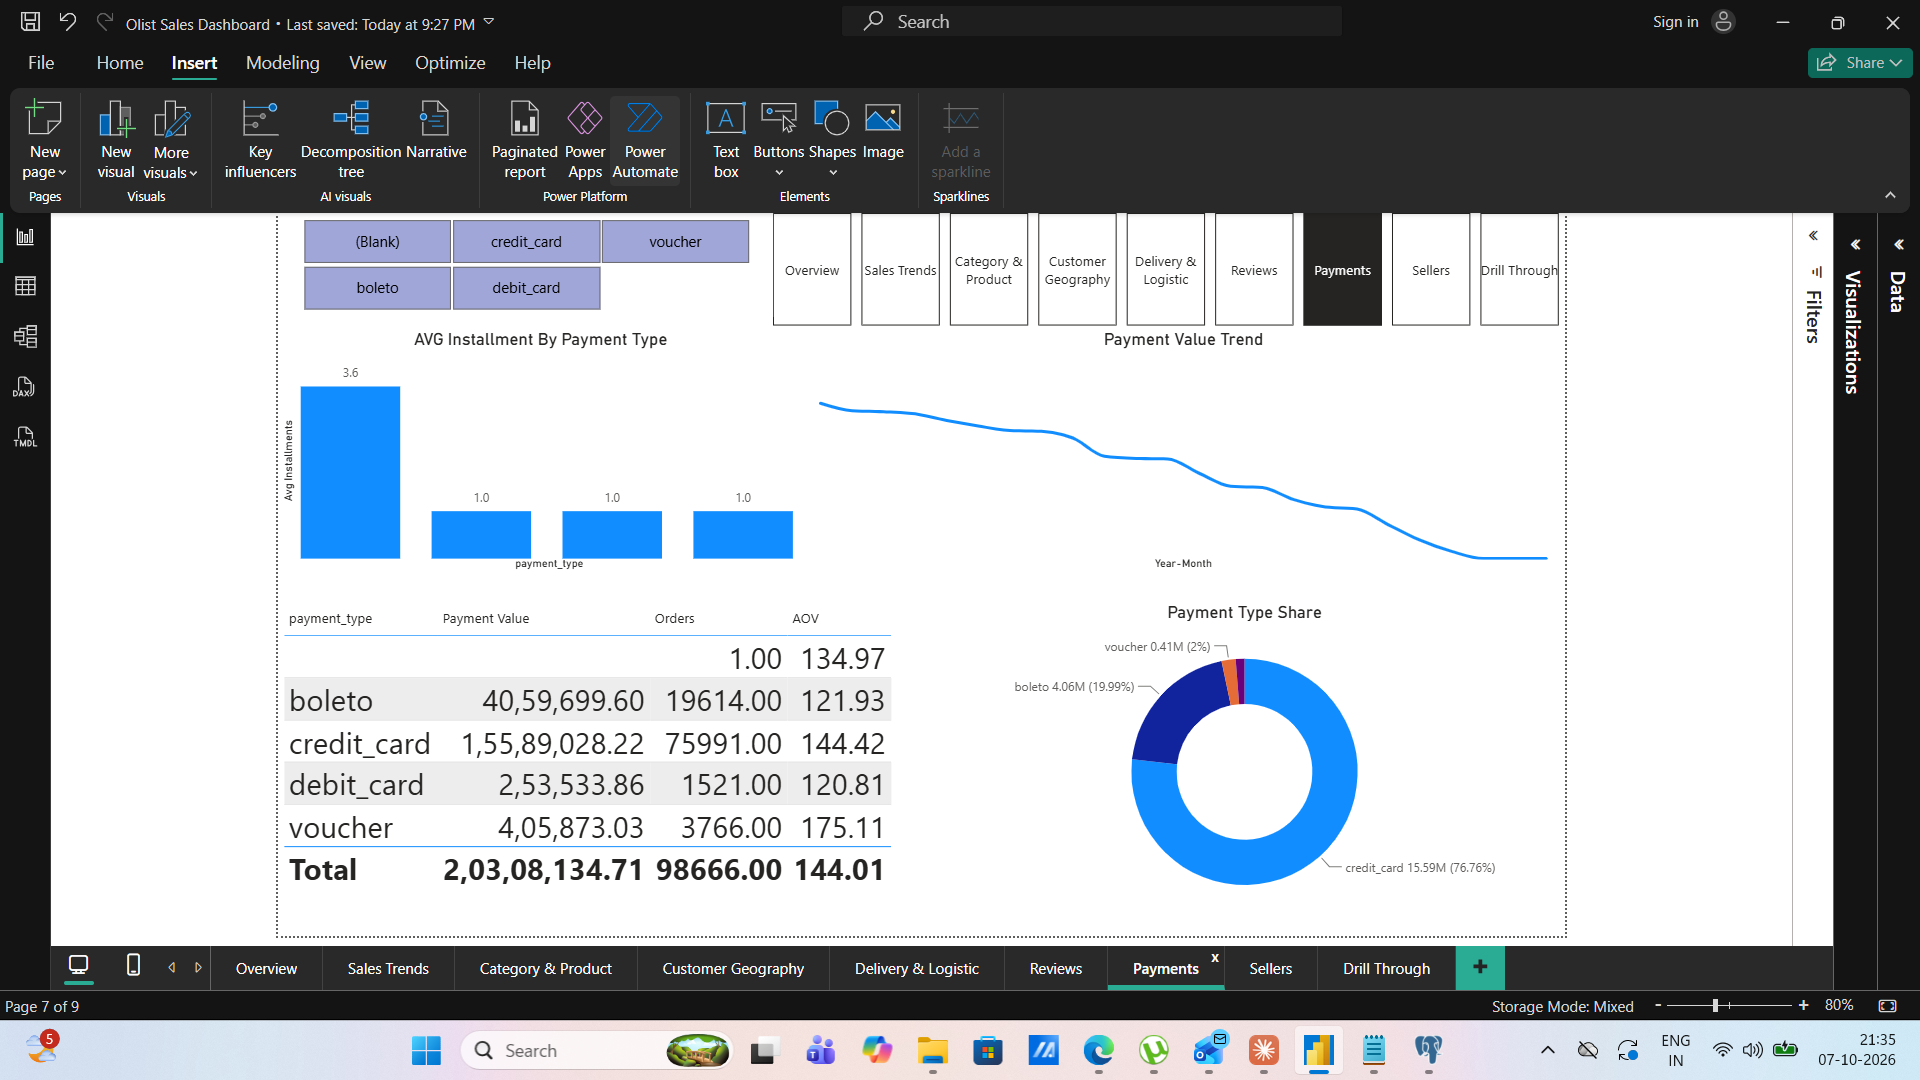

This screenshot's page, from the dashboard's own definition file:
{"tool":"powerbi","page":{"name":"Payments","canvas":[1280,720],"ordinal":6},"visuals":[{"type":"donutChart","title":"Payment Type Share","fields":{"Category":["public bi_fact_sales.payment_type"],"Y":["public bi_fact_sales.Payment Value"]},"box":[644.9,387,635.3,319.7],"z":0},{"type":"clusteredColumnChart","title":"AVG Installment By Payment Type ","fields":{"Category":["public bi_fact_sales.payment_type"],"Y":["public bi_fact_sales.Avg Installments"]},"box":[0,115.3,522.8,244.3],"z":1000},{"type":"lineChart","title":"Payment Value  Trend","fields":{"Category":["DimDate.Year-Month"],"Y":["public bi_fact_sales.Payment Value"]},"box":[522.8,115.3,757.5,244.3],"z":2000},{"type":"tableEx","title":"Payment Type","fields":{"Values":["public bi_fact_sales.payment_type","public bi_fact_sales.Payment Value","public bi_fact_sales.Orders","public bi_fact_sales.AOV"]},"box":[0,387,639.5,333.4],"z":3000},{"type":"pageNavigator","box":[492.6,0,787.7,112.5],"z":4000},{"type":"slicer","fields":{"Values":["public bi_fact_sales.payment_type"]},"box":[0,0,492.6,102.9],"z":5000}]}

Visuals, with their boxes on the page's 1280x720 design canvas (x1, y1, x2, y2). These are canvas units, not pixel positions in the 1920x1080 screenshot, which may show the page scaled, cropped or inside an application window:
"Payment Type Share" donutChart: (x1=645, y1=387, x2=1280, y2=707)
"AVG Installment By Payment Type " clusteredColumnChart: (x1=0, y1=115, x2=523, y2=360)
"Payment Value  Trend" lineChart: (x1=523, y1=115, x2=1280, y2=360)
"Payment Type" tableEx: (x1=0, y1=387, x2=640, y2=720)
pageNavigator: (x1=493, y1=0, x2=1280, y2=112)
slicer - public bi_fact_sales.payment_type: (x1=0, y1=0, x2=493, y2=103)
